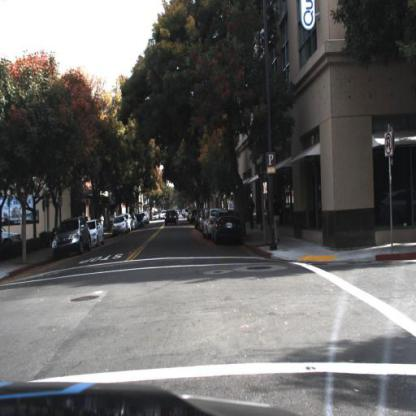car: (50, 213, 93, 259), (211, 208, 248, 252), (2, 223, 23, 252), (86, 219, 107, 248), (205, 211, 217, 242), (164, 207, 180, 229), (113, 214, 128, 235)
pedestrian: (272, 195, 282, 247), (249, 195, 261, 234), (248, 199, 258, 237)
